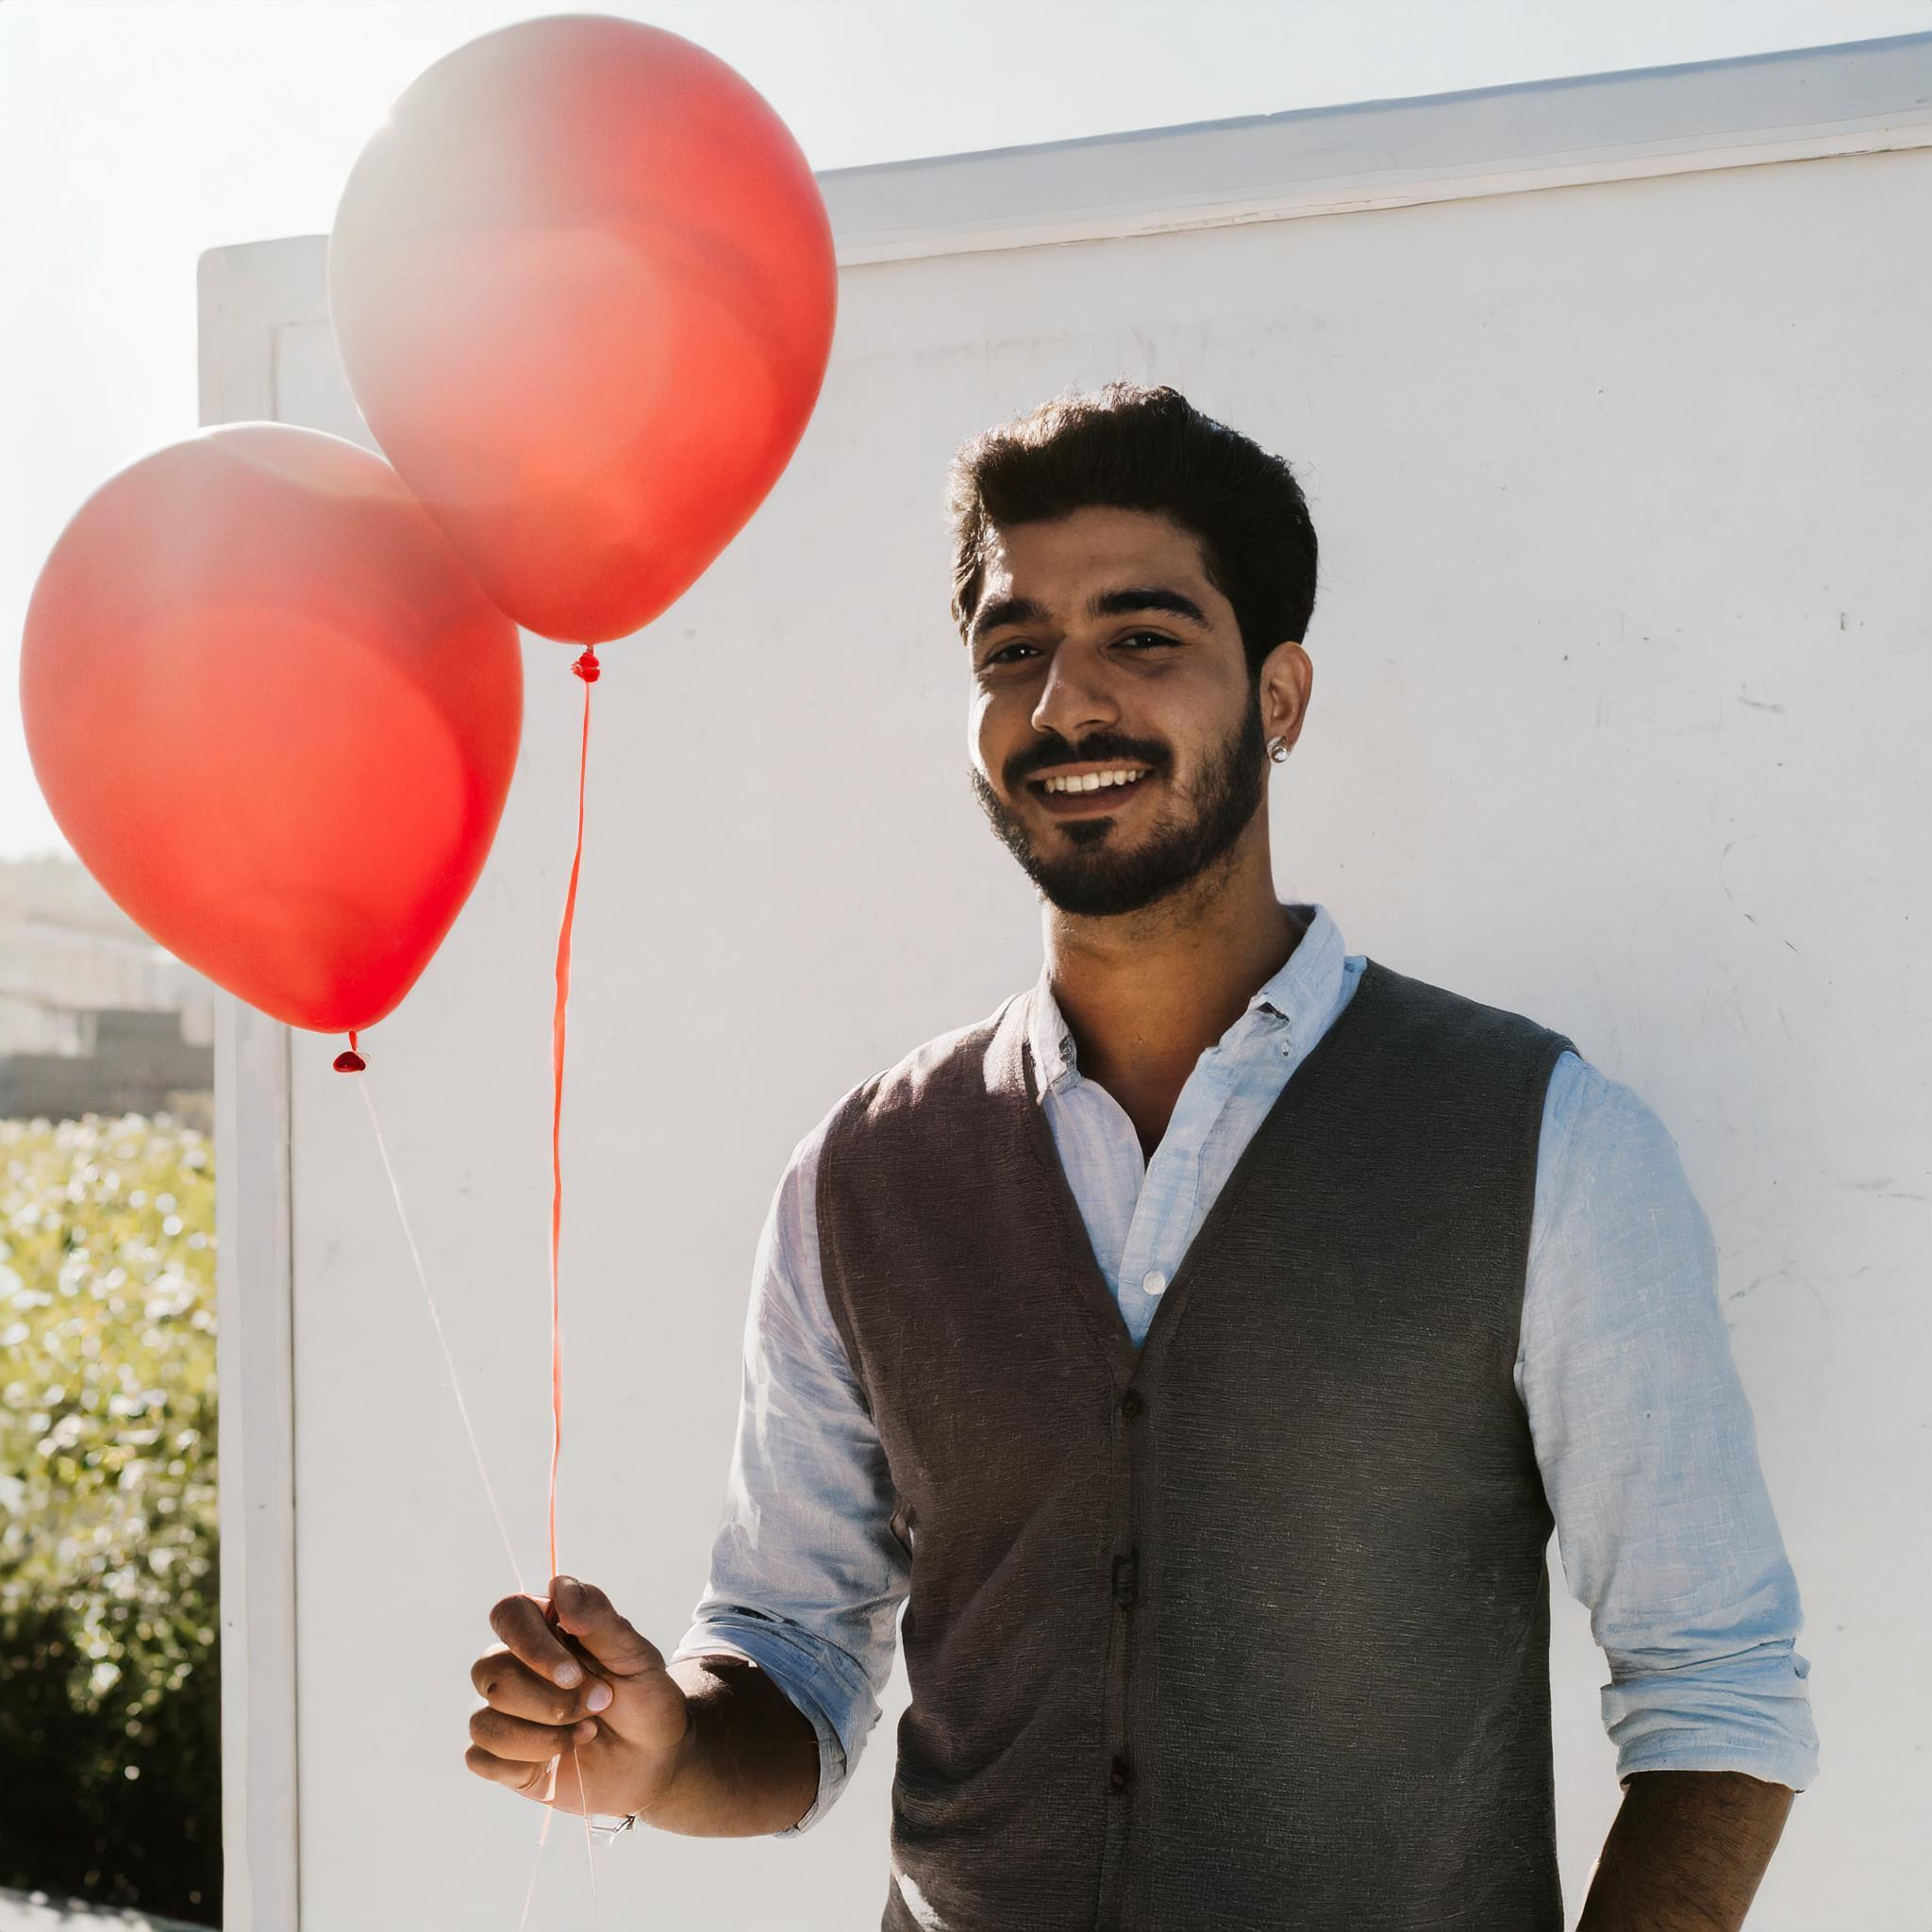red: (317, 0, 856, 720), (11, 410, 543, 1100)
